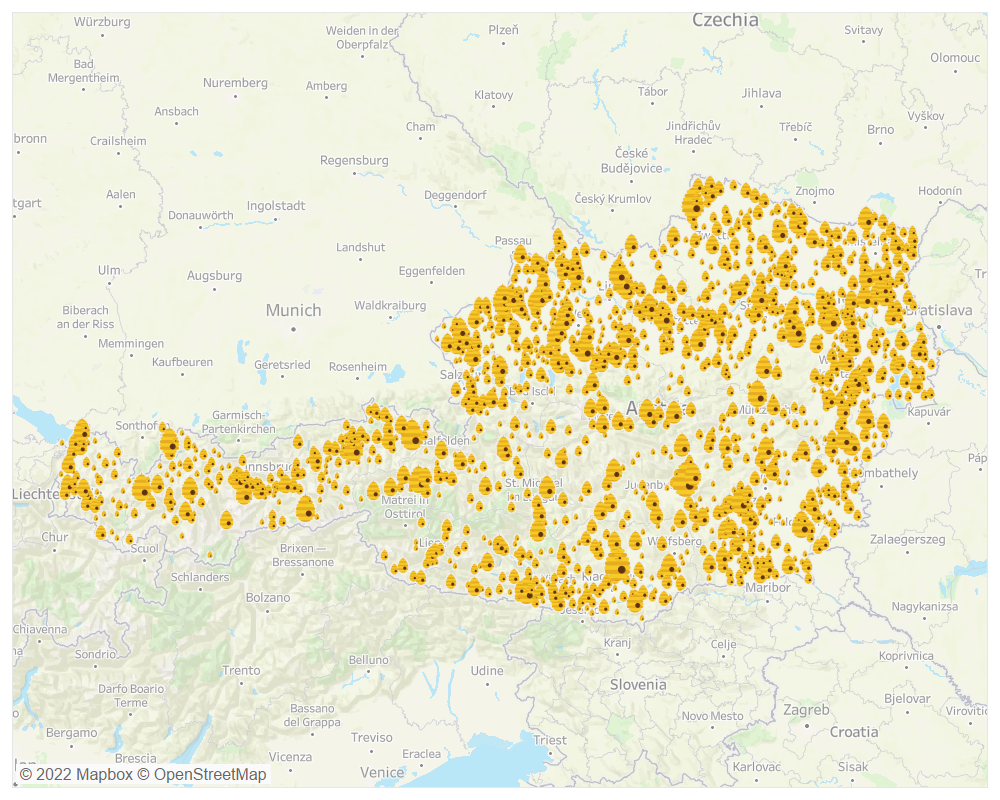

The page's visual inventory and layout, read from the dashboard file:
{"tool":"tableau","page":{"name":"Dashboard 1","canvas":[1000,800],"ordinal":0},"visuals":[{"type":"worksheet","title":"Bee_Map","mark":"Shape","rows":["latitude"],"cols":["longtitude"],"box":[8,8,984,784]}]}

Visuals, with their boxes in screenshot pixels (x1, y1, x2, y2), scaled from the page's 1000x800 canvas onto the 1000x800 screenshot:
"Bee_Map" worksheet (Shape marks): crop(8, 8, 992, 792)
